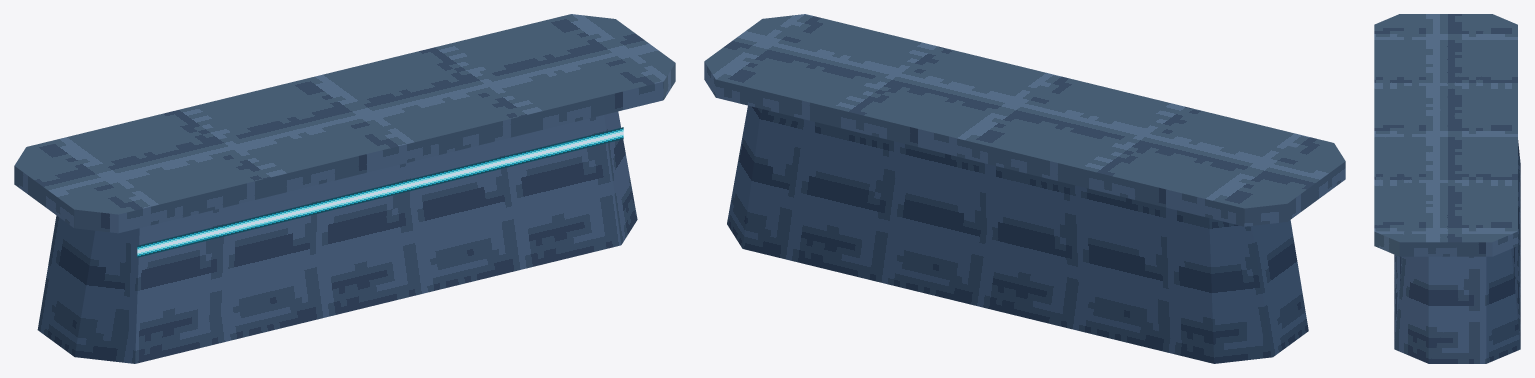
File: cyroom.bar.glb
3 views of the same model, side by side, from view 1: azimuth 30°, elevation 25°; view 2: azimuth 150°, elevation 25°; view 3: azimuth 270°, elevation 25° (orthographic). The views are drawn at different scales.
Visible parts, largest first — view 1: kit_body, kit_card_details; view 2: kit_body; view 3: kit_body.
Part boxes in pixels (bbox=[...]): kit_body: bbox=[14, 14, 675, 363]; kit_card_details: bbox=[137, 127, 623, 257]; kit_body: bbox=[704, 14, 1345, 363]; kit_body: bbox=[1374, 14, 1520, 363].
Bounding box in the file's own units: 4.7 × 1.24 × 1.28.
Materials: 4 (4 with a texture image).
